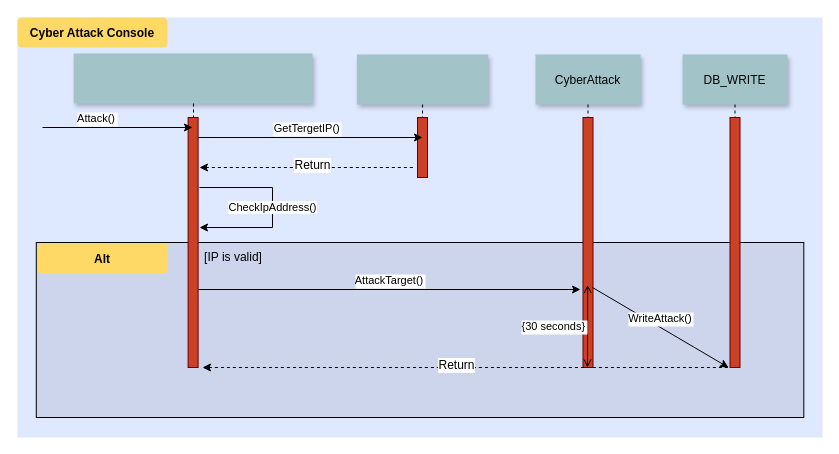
This 839x454 diagram has some shape labels left out. The centre of each missing label's shape, as x and y in pixels:
"ATTACK_SIMULATOR_USER_CONTROL" belongs at (193,79).
"SETTINGS" belongs at (423,80).
